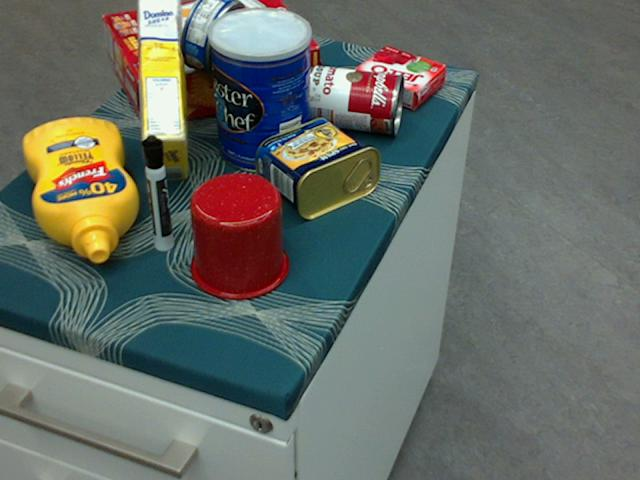cracker_box: (103, 0, 319, 129)
gelatin_box: (352, 47, 445, 108)
large_marker: (139, 135, 173, 249)
master_chef_can: (208, 6, 311, 173)
mug: (188, 171, 289, 298)
mustard_bottle: (22, 118, 137, 262)
potted_meat_can: (254, 115, 380, 220)
sugar_box: (139, 0, 189, 180)
tomato_soup_can: (303, 64, 405, 134)
tuna_fish_can: (180, 0, 247, 74)
